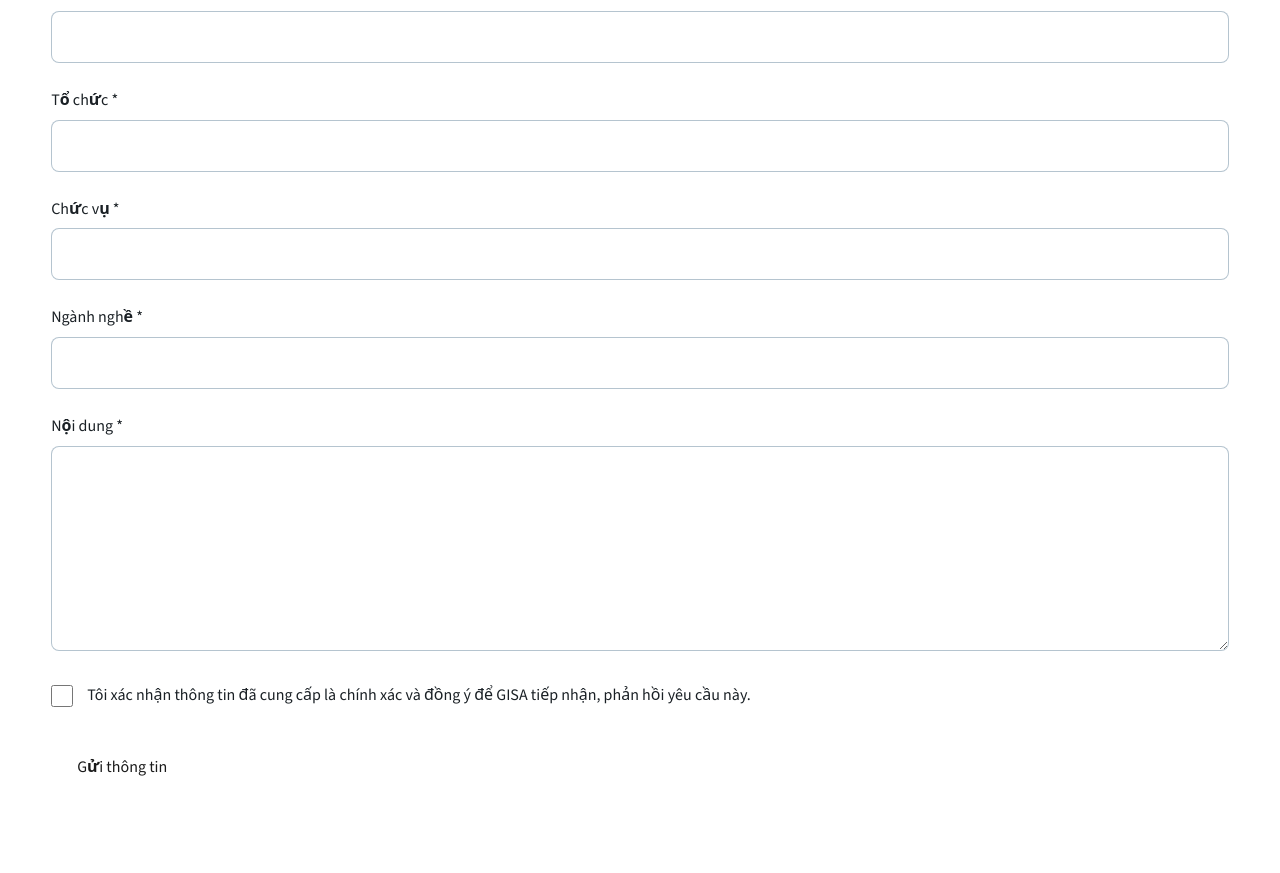
Test: empty submit focuses error summary and does not claim delivery
This screenshot has width=1280, height=873.
(page scrolled)
What coordinates should you click on to do the following:
click the button "Gửi thông tin"
I would click on:
 (122, 767)
Its box is left=51, top=739, right=193, bottom=794.
(page scrolled)
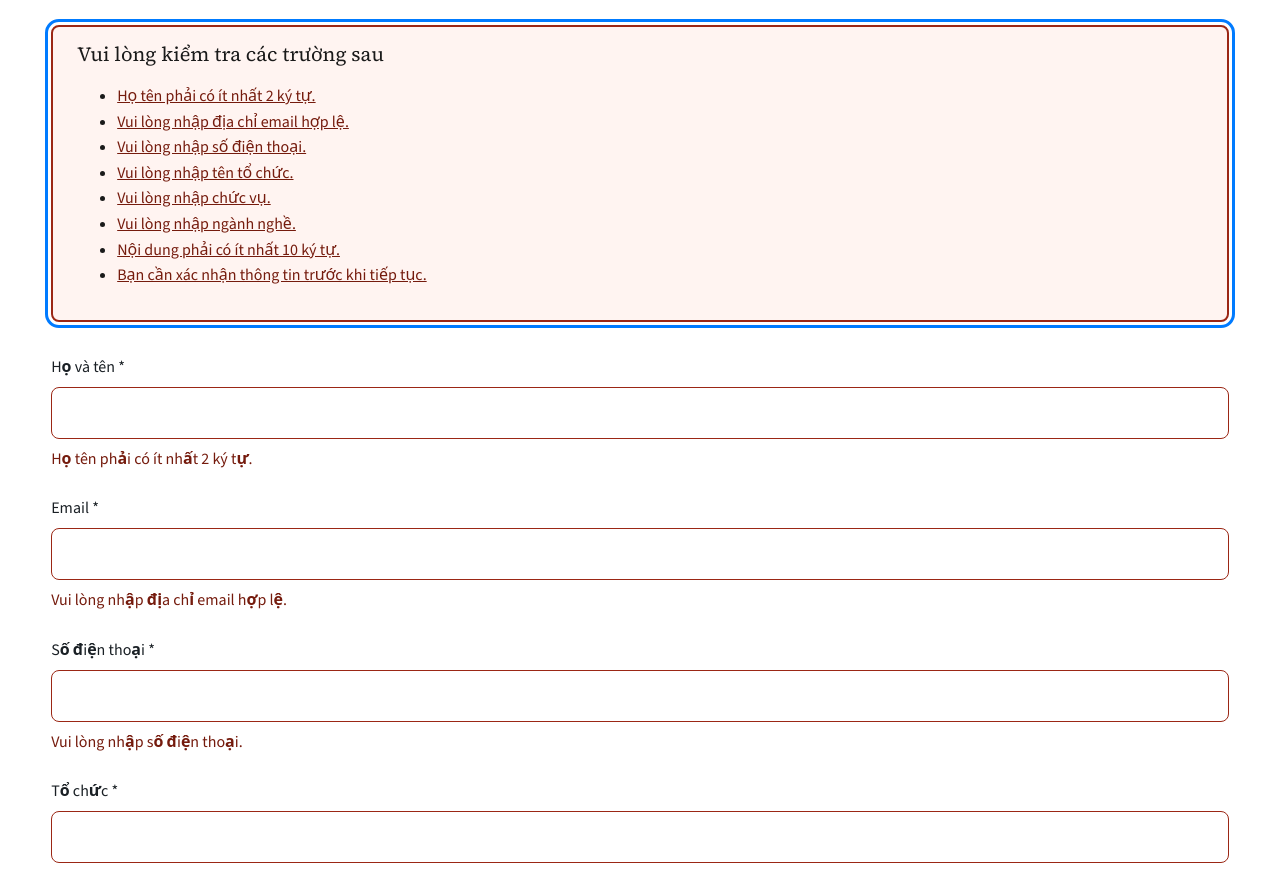
Expected: the message shows "Vui lòng kiểm tra các trường", left=77, top=40, right=384, bottom=68
